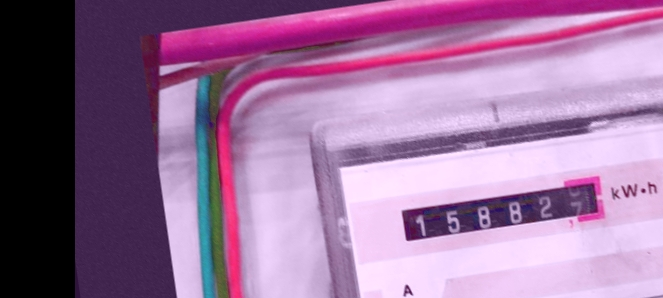1: (414, 211, 429, 239)
2: (537, 193, 556, 220)
5: (445, 208, 462, 236)
7: (569, 198, 586, 217)
8: (475, 203, 495, 230), (507, 199, 525, 226)
screen: (391, 169, 616, 257)
